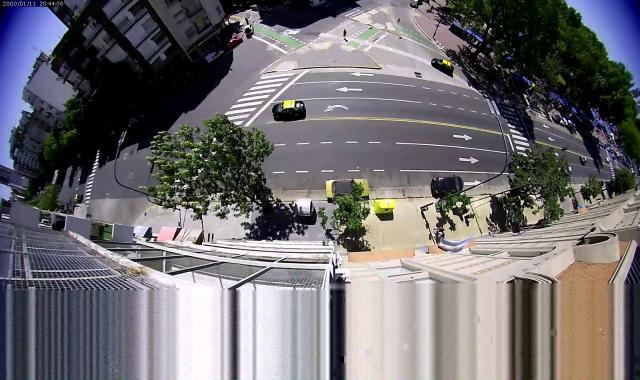car: (326, 179, 370, 197), (272, 100, 304, 118), (432, 177, 463, 194), (431, 58, 454, 75), (204, 50, 225, 64), (225, 37, 242, 49), (309, 0, 325, 7), (260, 6, 273, 12), (551, 115, 561, 122), (564, 166, 572, 174), (74, 194, 82, 201), (560, 118, 568, 125), (580, 156, 587, 162), (605, 157, 611, 162), (612, 155, 616, 160), (598, 142, 602, 146), (607, 147, 611, 151), (602, 143, 605, 147)
